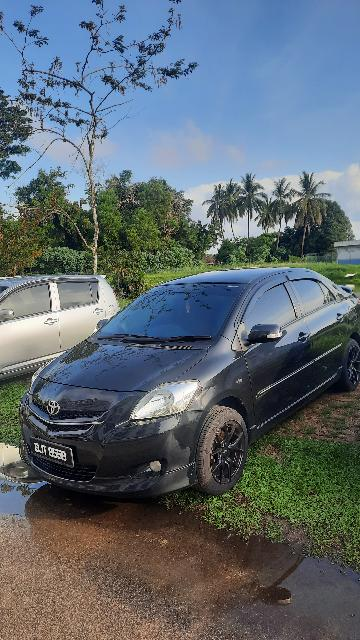License_Plate: (29, 436, 77, 471)
car: (15, 264, 360, 500)
